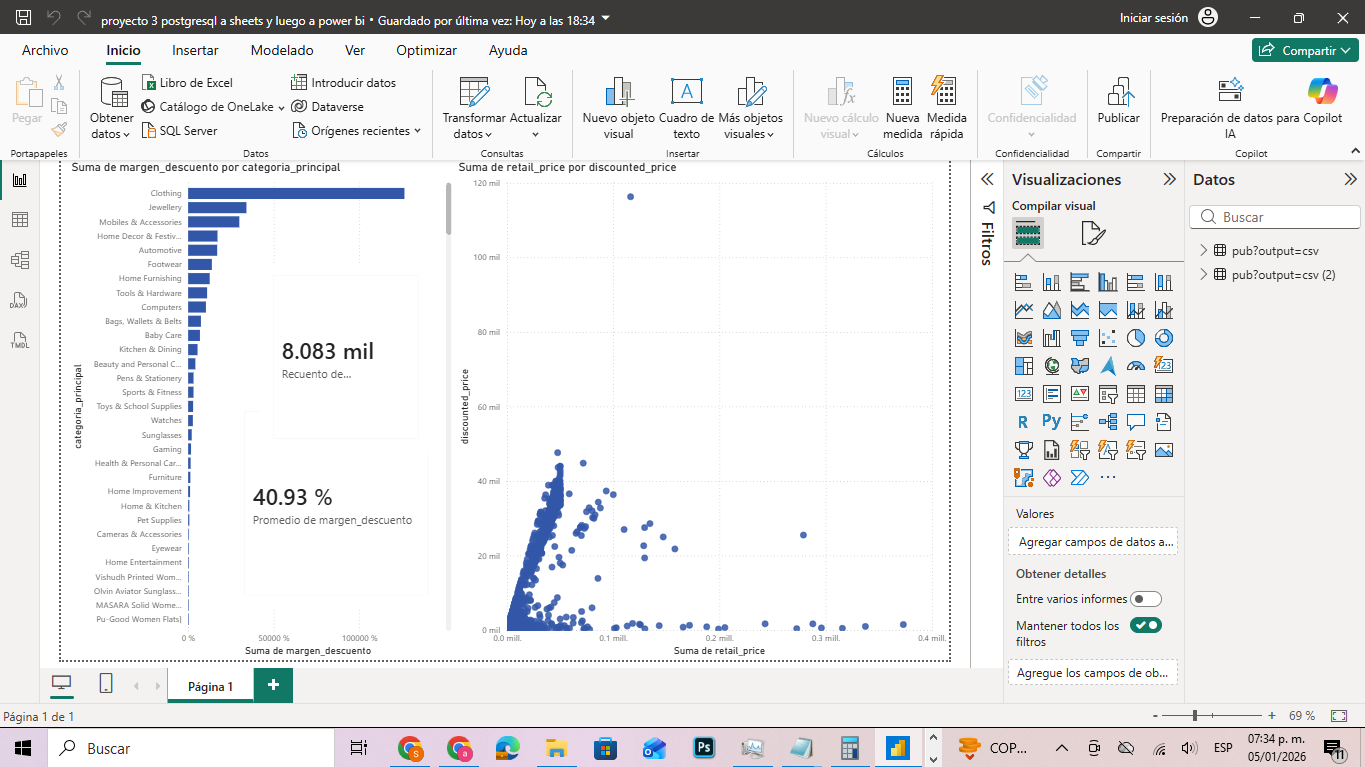

The dashboard page shown, as its layout file describes it:
{"tool":"powerbi","page":{"name":"Página 1","canvas":[1280,720],"ordinal":0},"visuals":[{"type":"barChart","fields":{"Category":["pub?output=csv (2).categoria_principal"],"Y":["Sum(pub?output=csv (2).margen_descuento)"]},"box":[10.1,0,557.3,720],"z":0},{"type":"cardVisual","fields":{"Data":["Avg(pub?output=csv (2).margen_descuento)"]},"box":[246.2,344.2,301,301],"z":1000},{"type":"cardVisual","fields":{"Data":["CountNonNull(pub?output=csv (2).product_name)"]},"box":[288,148.3,244.8,270.7],"z":2000},{"type":"scatterChart","fields":{"X":["Sum(pub?output=csv (2).retail_price)"],"Y":["pub?output=csv (2).discounted_price"]},"box":[567.4,0,712.8,720],"z":3000}]}

Visuals, with their boxes on the page's 1280x720 design canvas (x1, y1, x2, y2). These are canvas units, not pixel positions in the 1365x767 screenshot, which may show the page scaled, cropped or inside an application window:
barChart - pub?output=csv (2).categoria_principal x Sum(pub?output=csv (2).margen_descuento): [10, 0, 567, 720]
cardVisual - Avg(pub?output=csv (2).margen_descuento): [246, 344, 547, 645]
cardVisual - CountNonNull(pub?output=csv (2).product_name): [288, 148, 533, 419]
scatterChart - Sum(pub?output=csv (2).retail_price) x pub?output=csv (2).discounted_price: [567, 0, 1280, 720]
